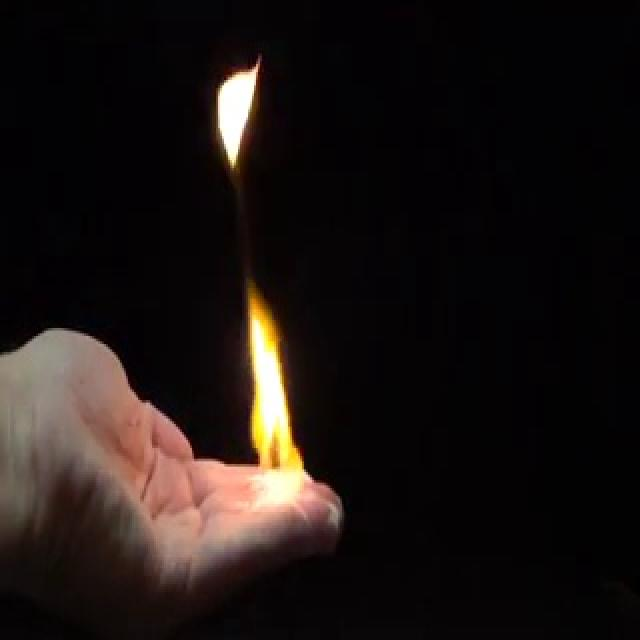fire: (237, 277, 304, 512)
